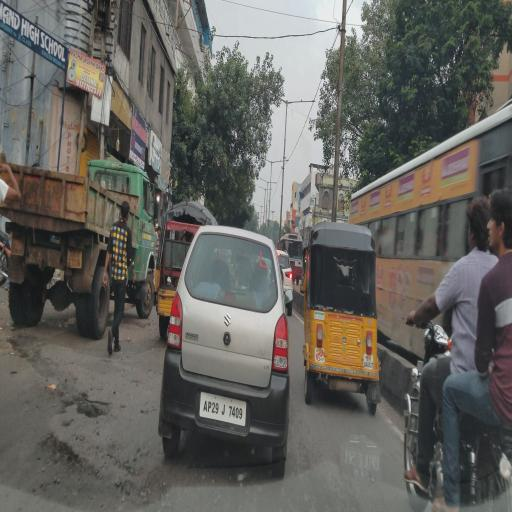street_light_0: (288, 84, 318, 112), (271, 145, 294, 167), (265, 174, 282, 192), (254, 172, 270, 190)
